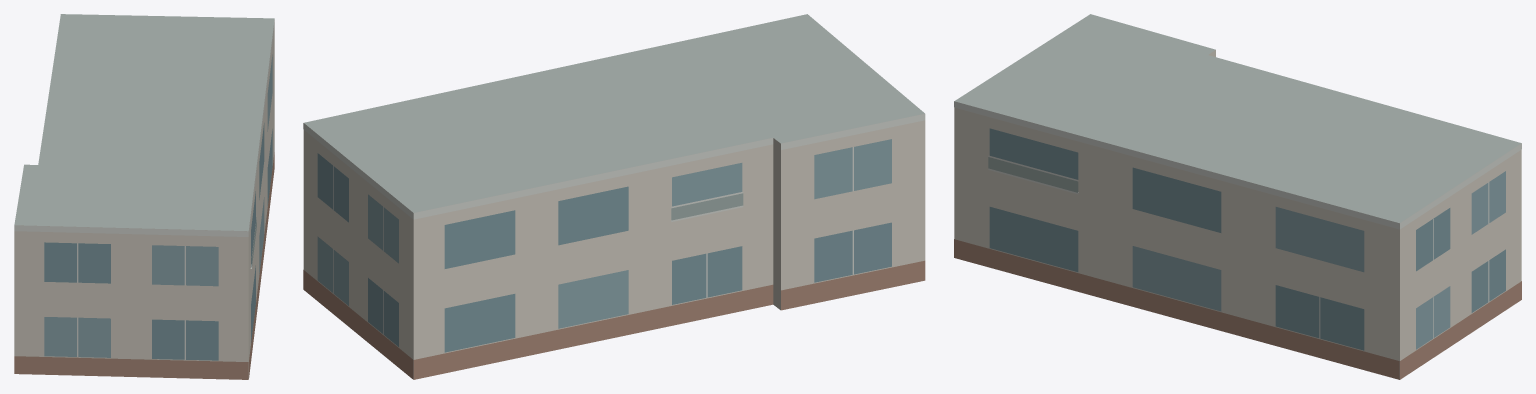
Rendered from survey-upis-32818475.glb.
3 renders of one model, left to right at view 1: azimuth 30°, elevation 25°; view 2: azimuth 150°, elevation 25°; view 3: azimuth 270°, elevation 25°, orthographic. The views are drawn at different scales.
Parts seen in each view (by area): view 1: survey-upis-32818475.tmp; view 2: survey-upis-32818475.tmp; view 3: survey-upis-32818475.tmp.
Boxes of the visible parts, bbox=[...] form: survey-upis-32818475.tmp: bbox=[14, 14, 274, 379]; survey-upis-32818475.tmp: bbox=[303, 14, 925, 379]; survey-upis-32818475.tmp: bbox=[954, 14, 1521, 379].
Size of the model in its own units: 17.49 by 6.1 by 20.04.
